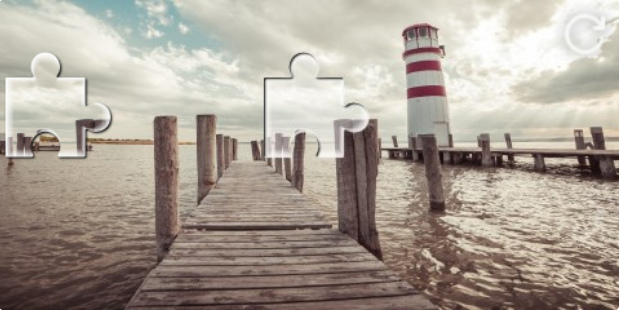target: (263, 52, 367, 158)
